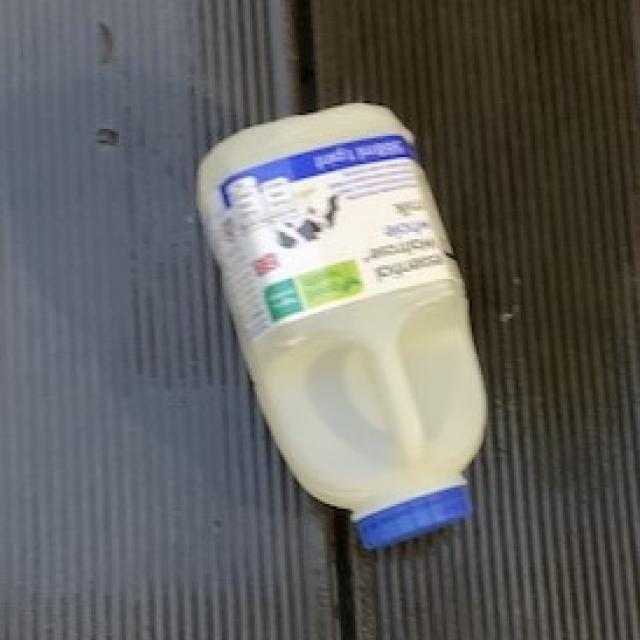HDPE Plastic: (192, 98, 494, 554)
